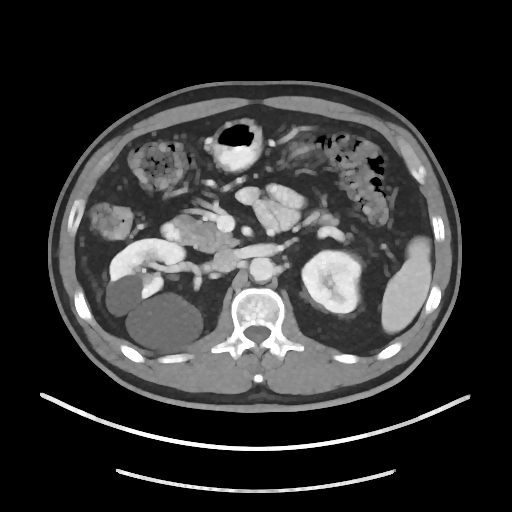Lesion: (124, 290, 207, 355)
